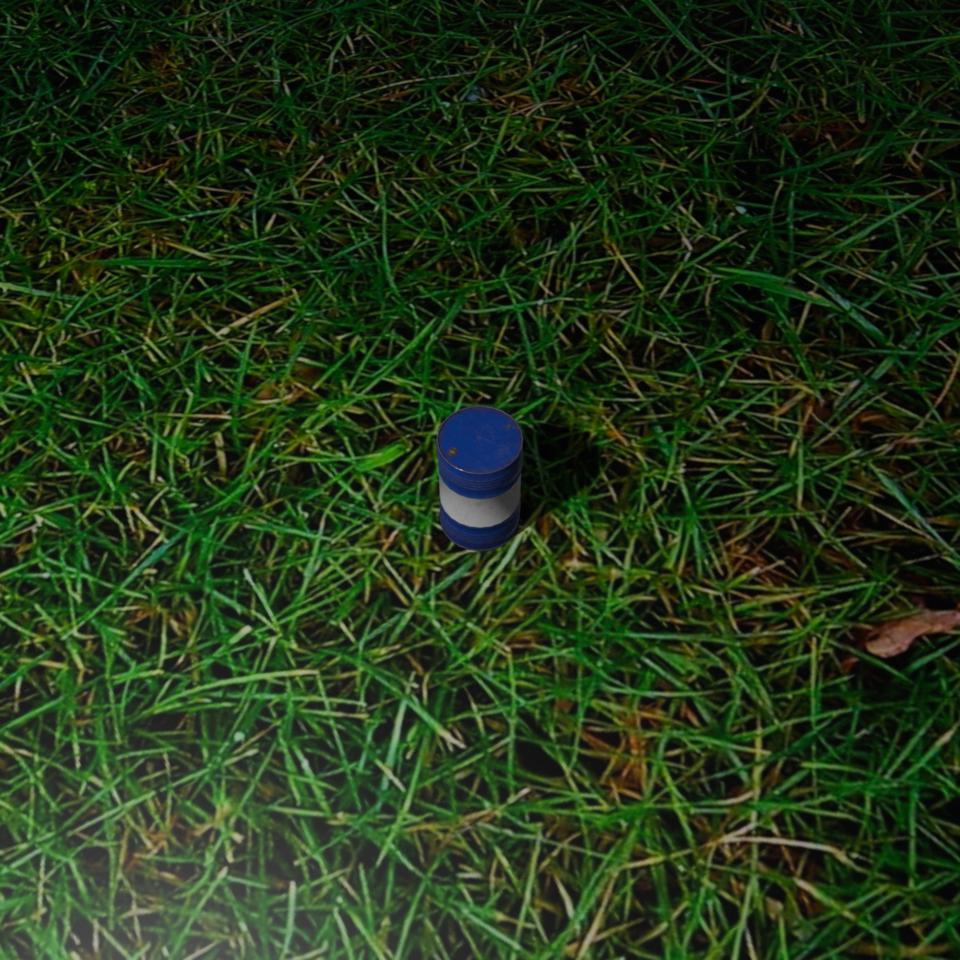circle: (435, 405, 522, 552)
